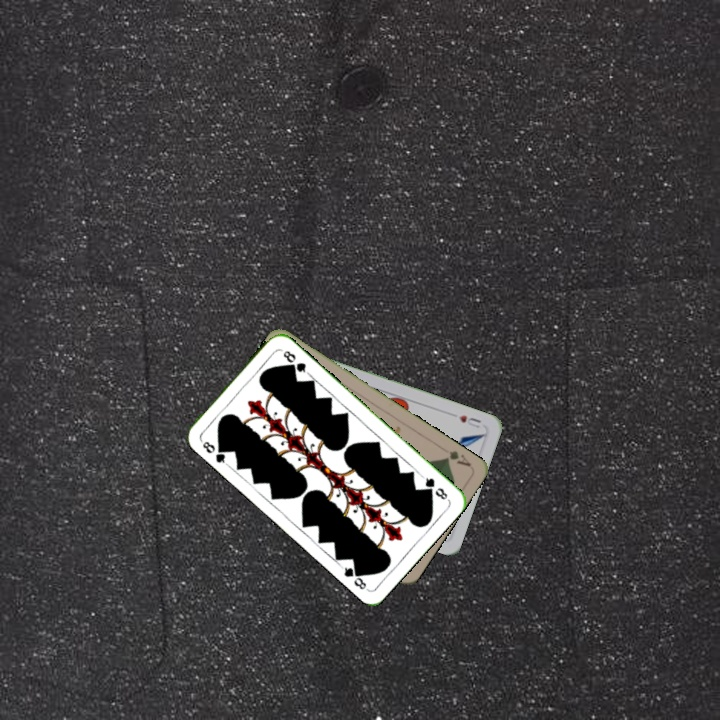G8: (418, 472, 450, 502), (199, 437, 230, 467)
GA: (440, 446, 474, 470)
HU: (455, 411, 484, 431)
